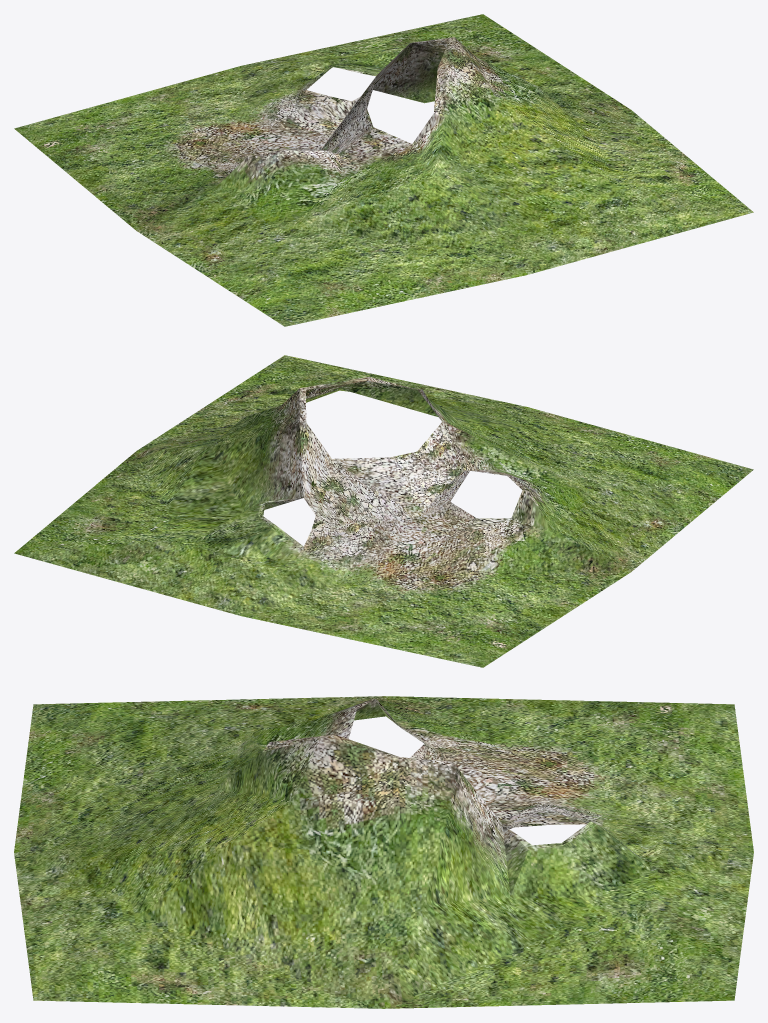
The model's file is quarry_a_base.dae.
3 views of the same model, one above another, from view 1: azimuth 30°, elevation 25°; view 2: azimuth 150°, elevation 25°; view 3: azimuth 270°, elevation 25° (orthographic). The views are drawn at different scales.
Visible parts, largest first — view 1: Object01-Pivot; view 2: Object01-Pivot; view 3: Object01-Pivot.
Part boxes in pixels (<box>): Object01-Pivot: <box>14,14,753,326</box>; Object01-Pivot: <box>14,355,753,667</box>; Object01-Pivot: <box>14,696,753,1008</box>.
Bounding box in the file's own units: 31.14 × 31.14 × 6.57.
